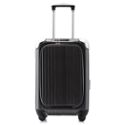luggage: (35, 4, 90, 123)
